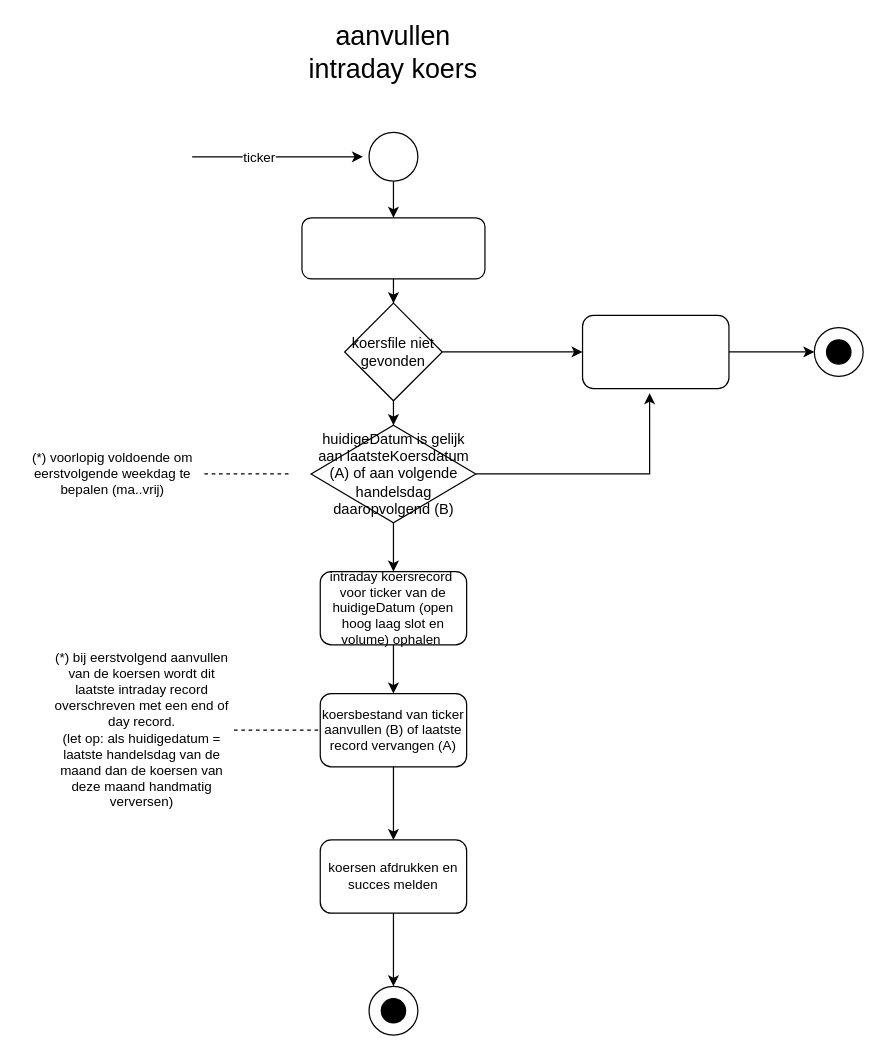
This 885x1057 diagram has some shape labels left out. Each missing label, with the box of its shape:
bepaal huidigedatum en laatsteKoersdatum uit koersfile van ticker: (301, 217, 485, 279)
foutmelding: (581, 314, 729, 389)
